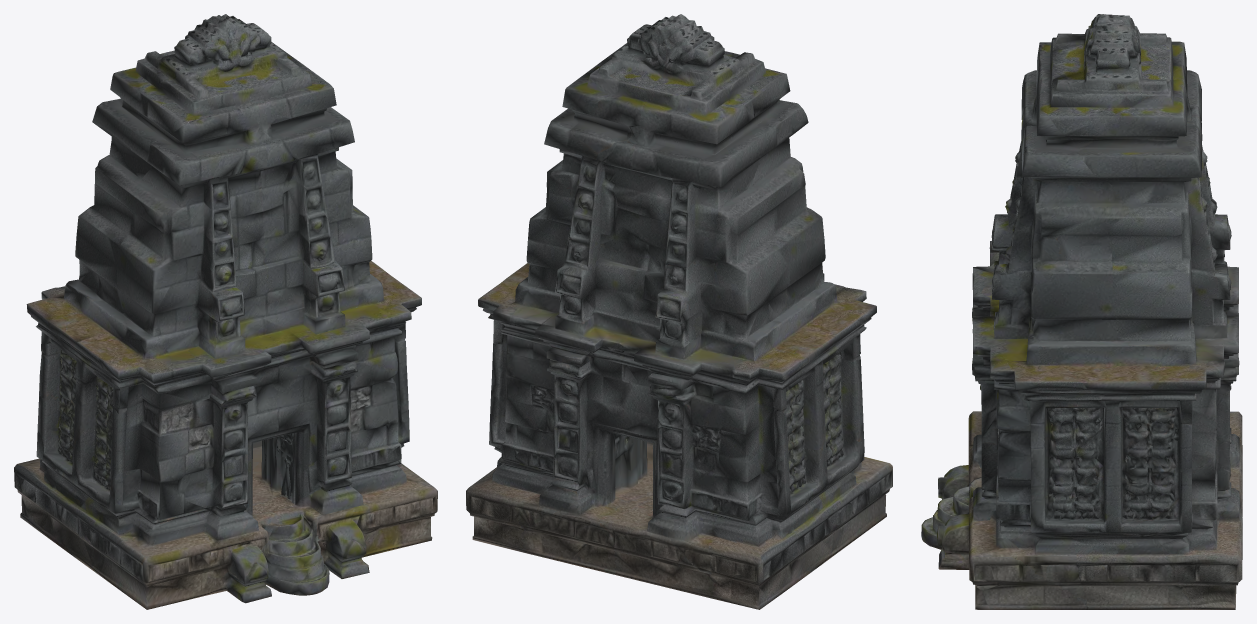
File: og_ct_temple.glb
3 renders of one model, left to right at view 1: azimuth 30°, elevation 25°; view 2: azimuth 150°, elevation 25°; view 3: azimuth 270°, elevation 25°, orthographic. The views are drawn at different scales.
Size of the model in its own units: 1.19 by 1.9 by 1.05.
1 material, 1 textured.
